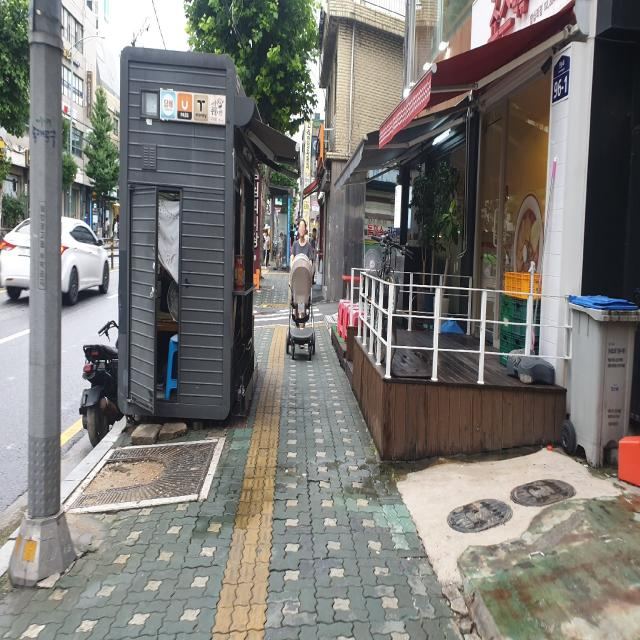car: (0, 215, 109, 306)
motorbike: (79, 320, 118, 448)
